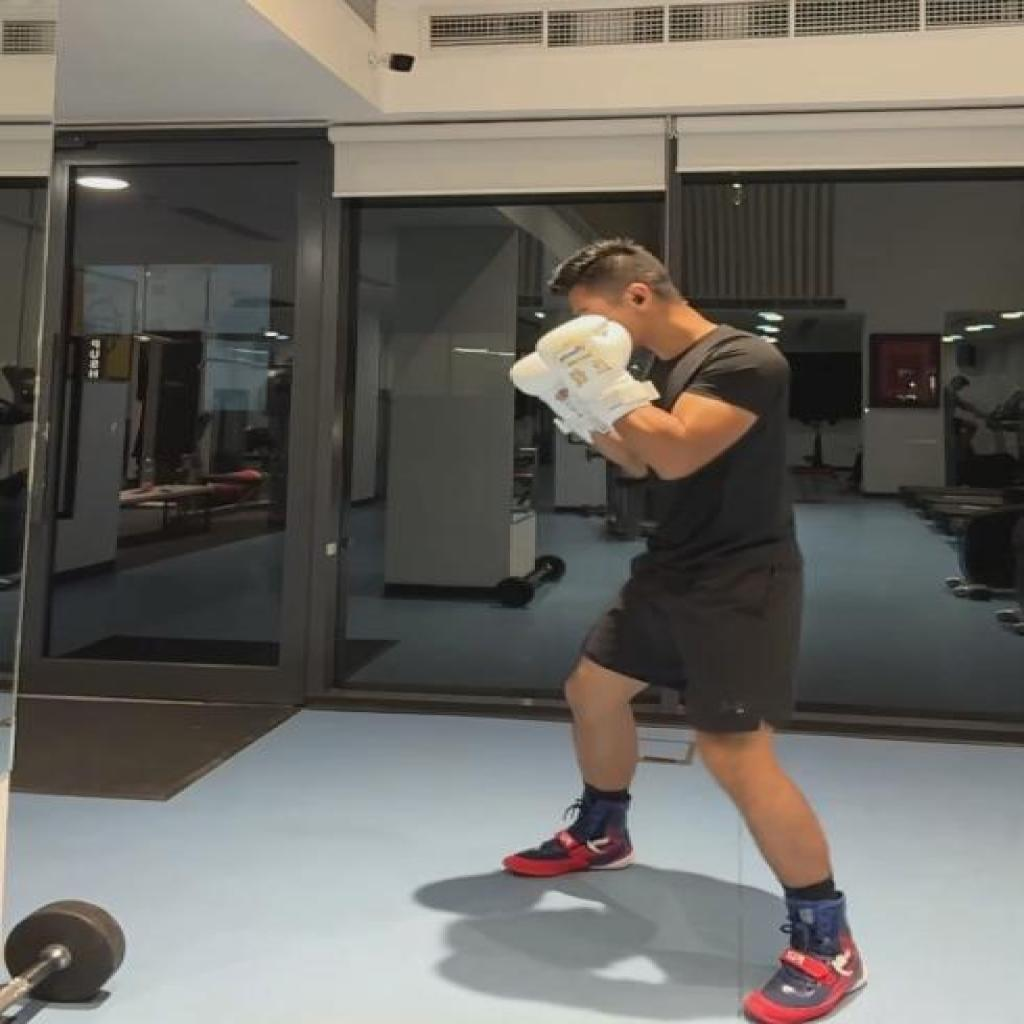no punch: (502, 237, 874, 1024)
